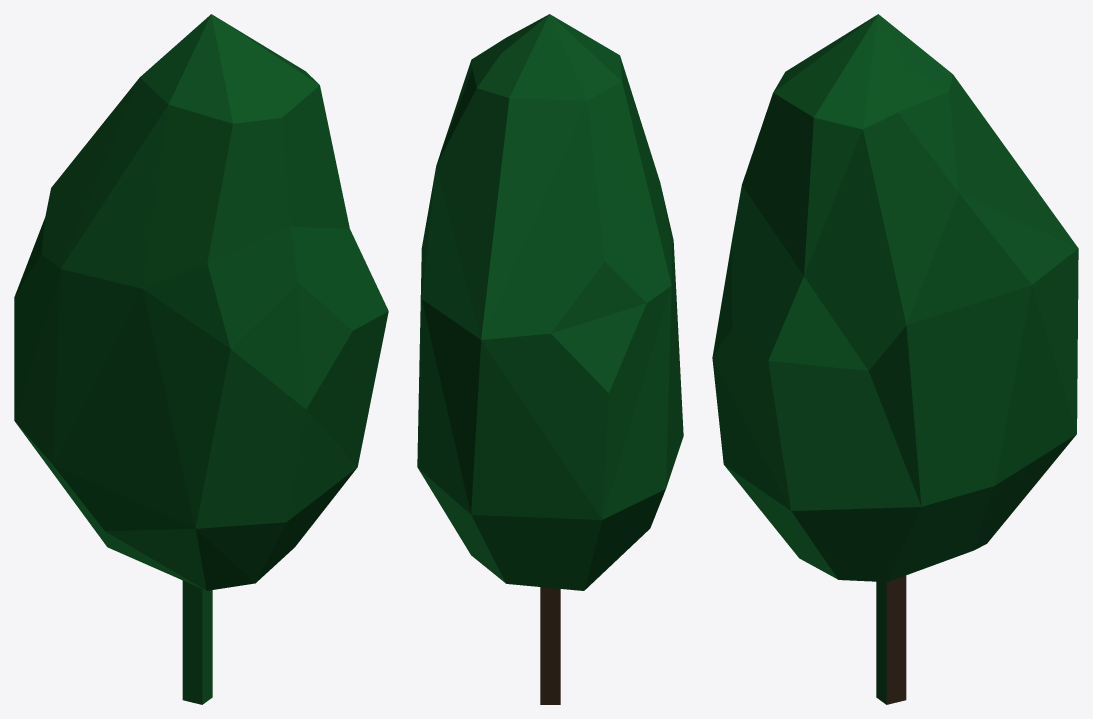
File: tree2.fbx
3 renders of one model, left to right at view 1: azimuth 30°, elevation 25°; view 2: azimuth 150°, elevation 25°; view 3: azimuth 270°, elevation 25°, orthographic.
Parts seen in each view (by area): view 1: Box021; view 2: Box021; view 3: Box021.
Boxes of the visible parts, left/top/right/bottom form: Box021: left=14, top=14, right=388, bottom=704; Box021: left=417, top=14, right=683, bottom=704; Box021: left=712, top=14, right=1078, bottom=704.
Bounding box in the file's own units: 8.07 × 20.37 × 9.82.
